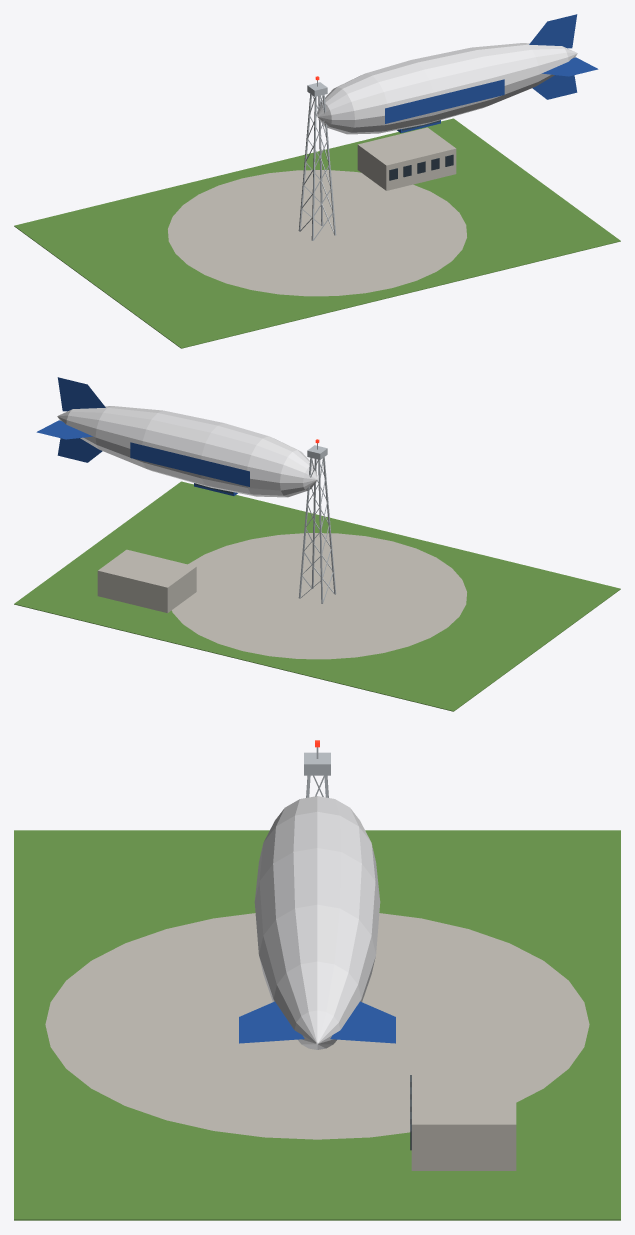
File: airship_mast.glb
3 views of the same model, one above another, from view 1: azimuth 30°, elevation 25°; view 2: azimuth 150°, elevation 25°; view 3: azimuth 270°, elevation 25° (orthographic). The views are drawn at different scales.
Parts seen in each view (by area): view 1: Airship_static, spinY_s04_airship; view 2: Airship_static, spinY_s04_airship; view 3: Airship_static, spinY_s04_airship.
Part boxes in pixels (left/top/right/bottom): Airship_static: left=14, top=76, right=620, bottom=348; spinY_s04_airship: left=317, top=14, right=598, bottom=134; Airship_static: left=14, top=439, right=620, bottom=711; spinY_s04_airship: left=36, top=377, right=317, bottom=497; Airship_static: left=14, top=740, right=620, bottom=1220; spinY_s04_airship: left=239, top=796, right=395, bottom=1049.
Size of the model in its own units: 96 by 30.04 by 58.
